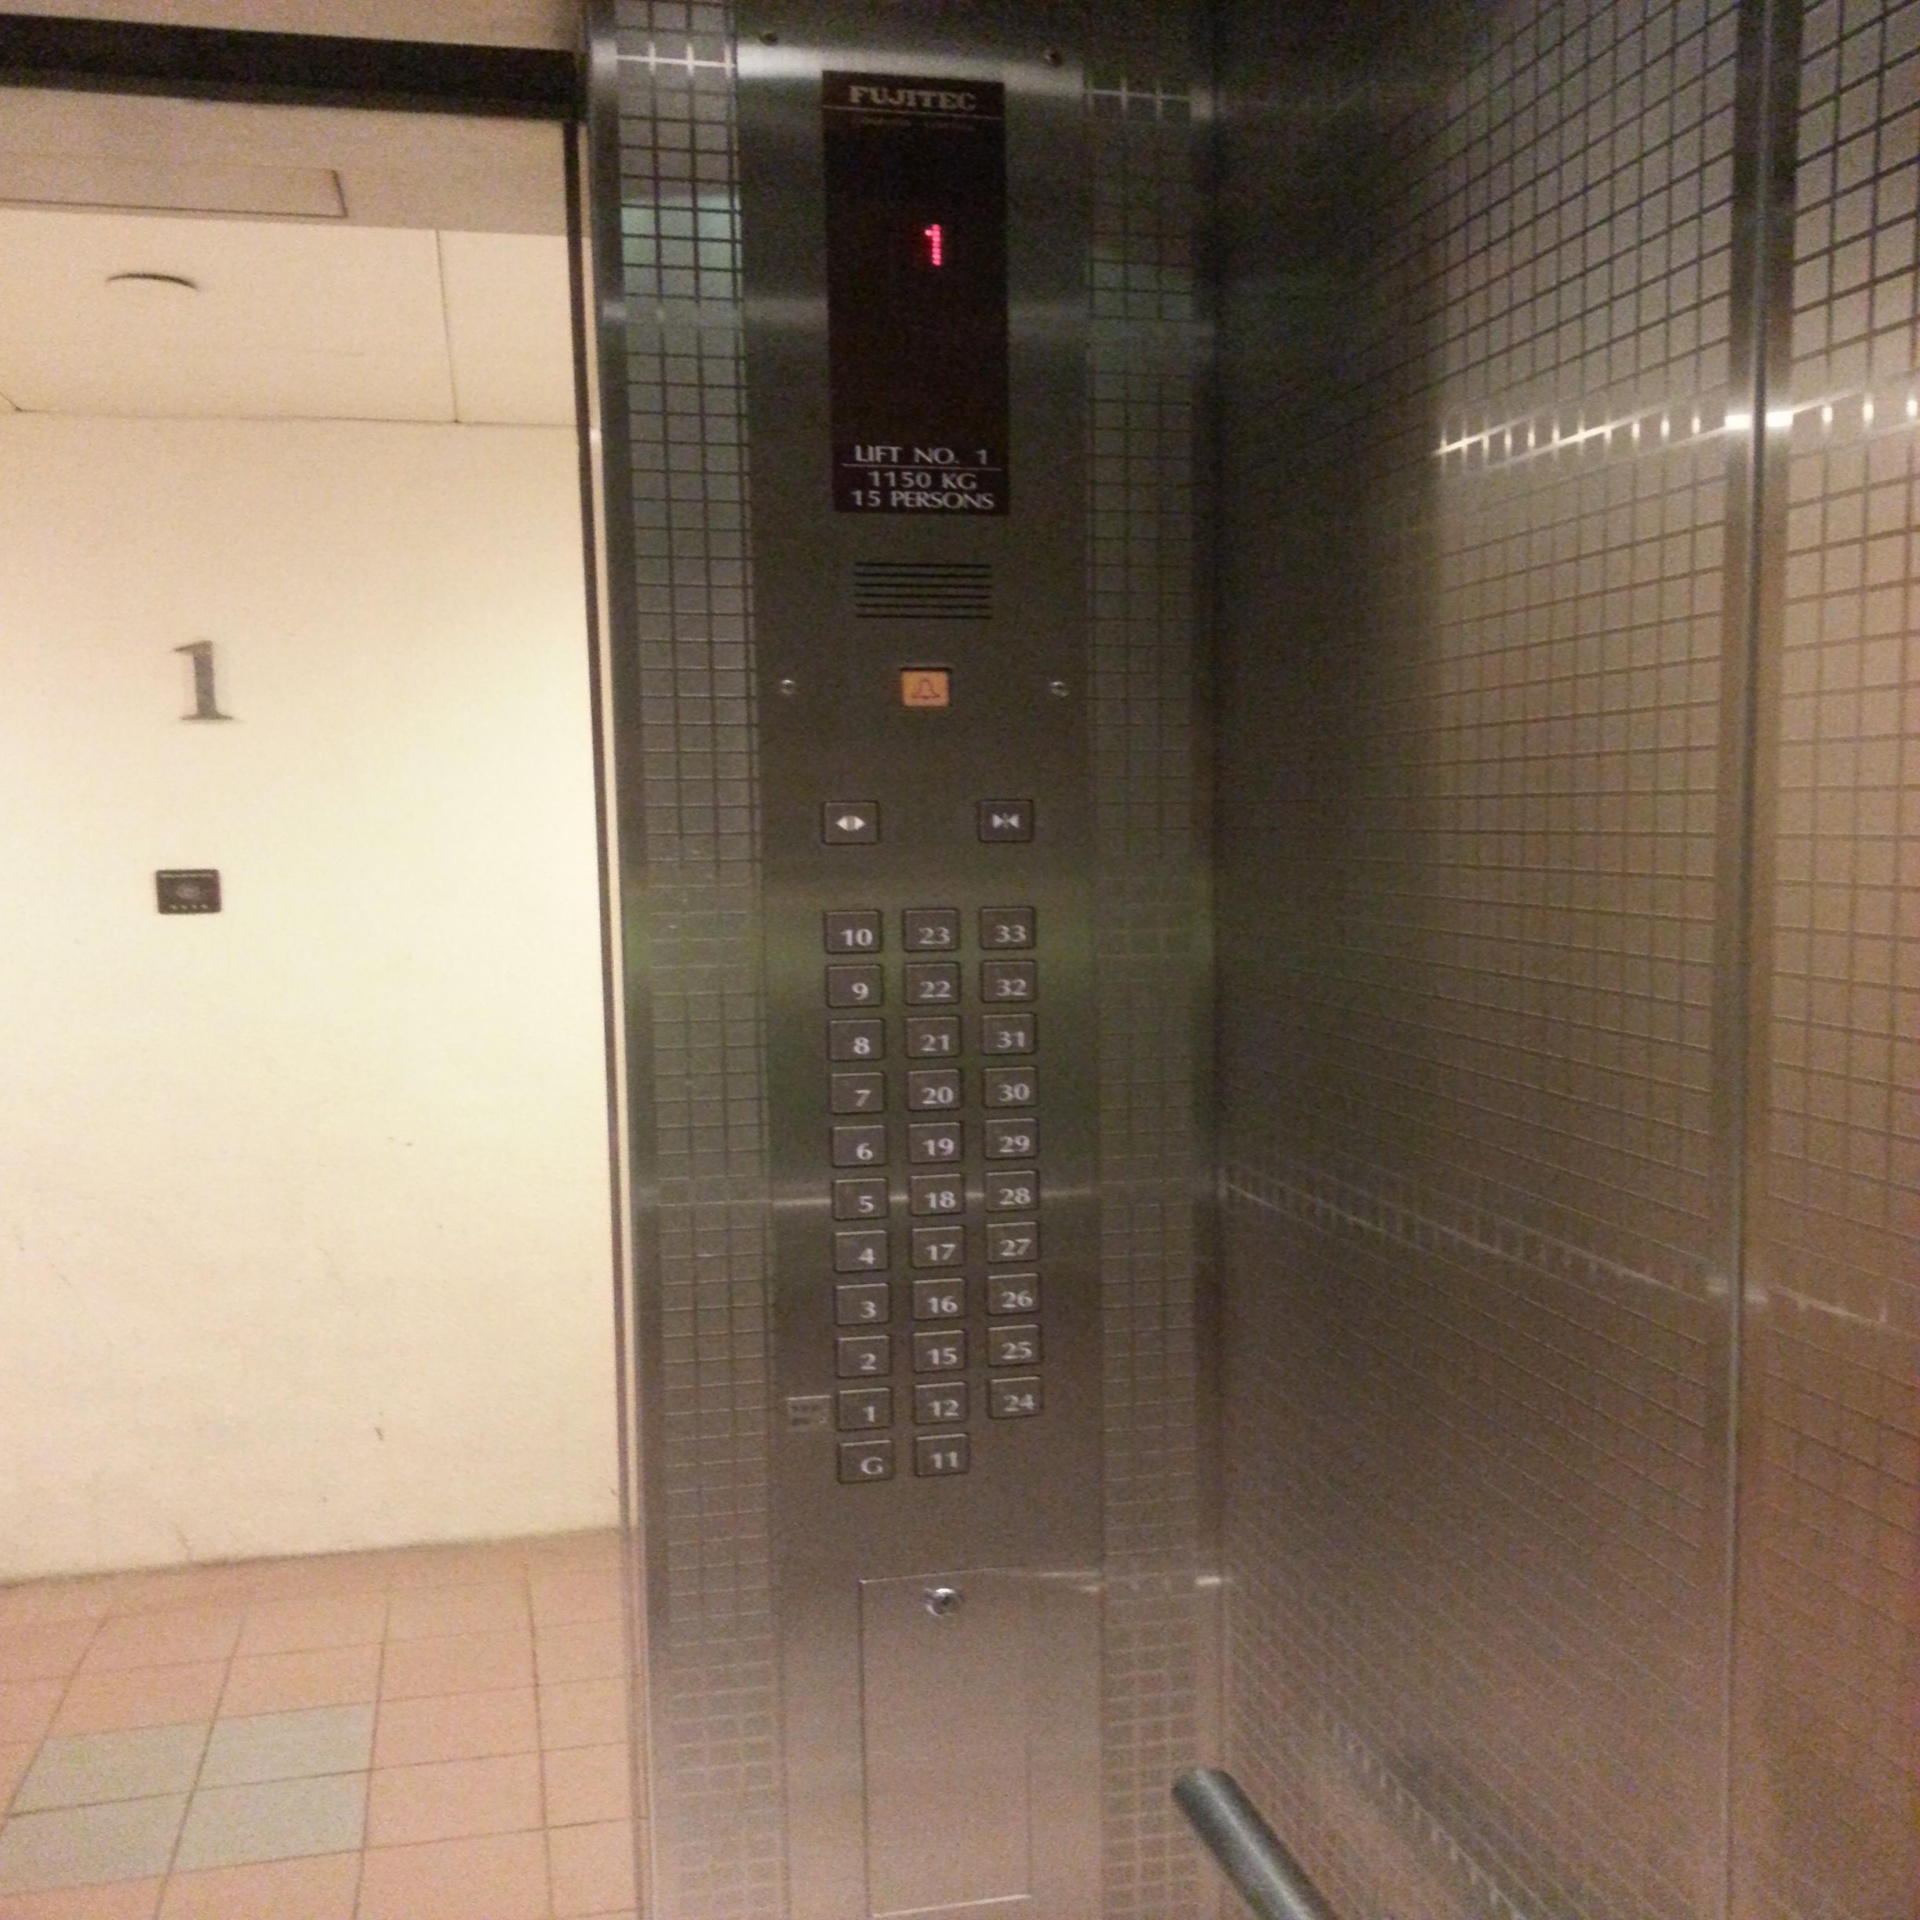1: (835, 1387, 895, 1429)
10: (825, 909, 883, 953)
11: (911, 1435, 974, 1479)
12: (909, 1382, 969, 1424)
15: (907, 1329, 967, 1371)
16: (909, 1276, 969, 1320)
17: (909, 1225, 969, 1269)
18: (907, 1171, 969, 1217)
19: (904, 1122, 964, 1166)
2: (835, 1335, 893, 1378)
20: (904, 1069, 964, 1111)
21: (904, 1015, 964, 1060)
22: (900, 964, 962, 1006)
23: (900, 905, 960, 953)
24: (986, 1377, 1044, 1419)
25: (983, 1324, 1043, 1366)
26: (985, 1271, 1043, 1315)
27: (985, 1222, 1043, 1264)
28: (983, 1169, 1041, 1211)
29: (981, 1116, 1041, 1160)
3: (833, 1284, 893, 1326)
30: (981, 1067, 1041, 1109)
31: (979, 1015, 1037, 1055)
32: (979, 958, 1036, 1002)
33: (978, 905, 1036, 949)
4: (832, 1231, 891, 1275)
5: (832, 1178, 891, 1220)
6: (830, 1125, 886, 1167)
7: (830, 1074, 884, 1115)
8: (825, 1020, 886, 1064)
9: (825, 967, 884, 1009)
G: (839, 1438, 898, 1486)
alarm: (893, 661, 956, 716)
close: (976, 795, 1041, 846)
keyhole: (927, 1581, 965, 1623)
led: (818, 65, 1015, 522)
open: (819, 796, 883, 847)
